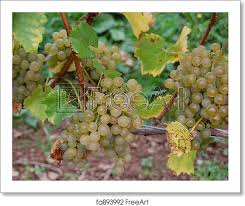grapes: (57, 60, 145, 171), (173, 48, 225, 126), (13, 45, 44, 111)
